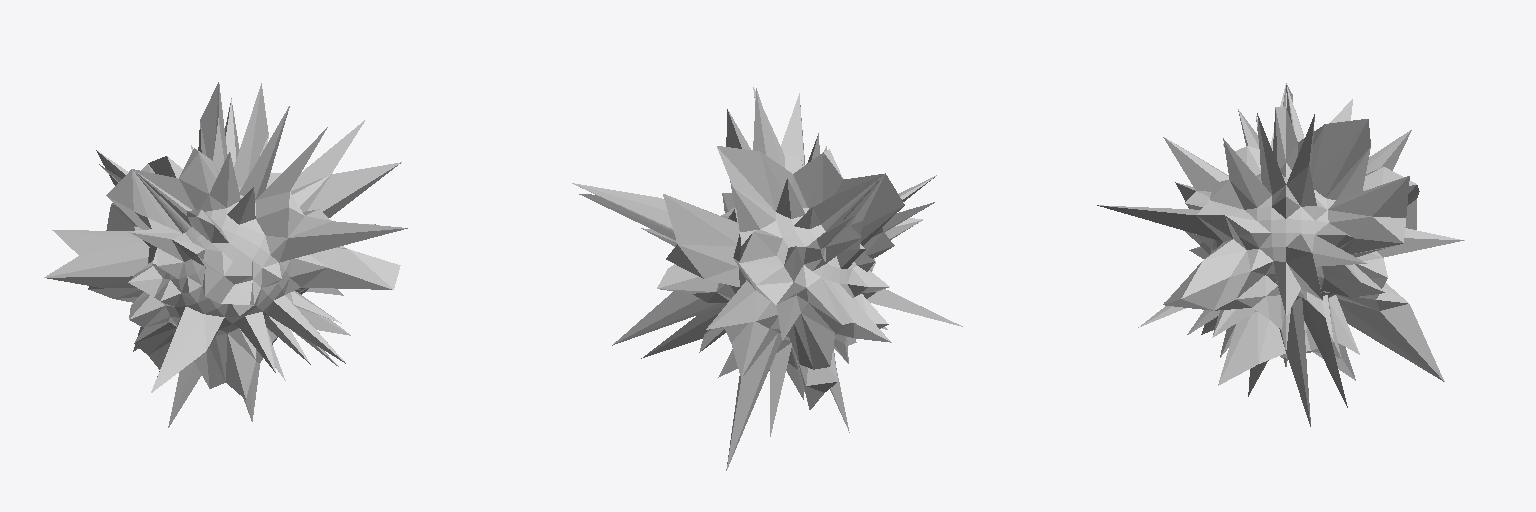
The model's file is outside_ball_piek_3.obj.
The picture shows the model from 3 angles: view 1: azimuth 30°, elevation 25°; view 2: azimuth 150°, elevation 25°; view 3: azimuth 270°, elevation 25°; orthographic projection.
Visible parts, largest first — view 1: Outside_ball_pieks_2.001; view 2: Outside_ball_pieks_2.001; view 3: Outside_ball_pieks_2.001.
Boxes of the visible parts, <box> form: Outside_ball_pieks_2.001: <box>44,82,407,427</box>; Outside_ball_pieks_2.001: <box>572,87,962,470</box>; Outside_ball_pieks_2.001: <box>1097,83,1464,426</box>.
Size of the model in its own units: 0.3155 by 0.2775 by 0.3.